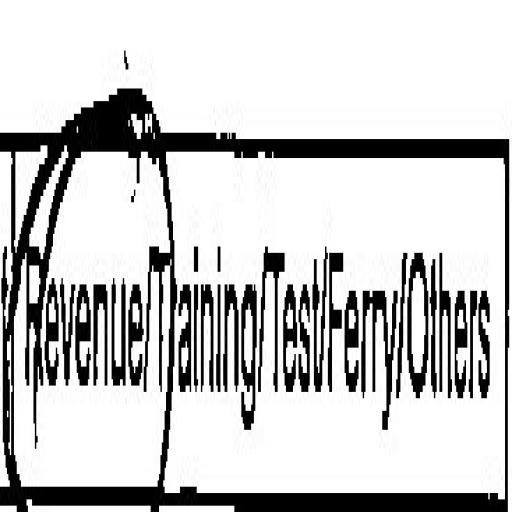check: (0, 22, 151, 512)
